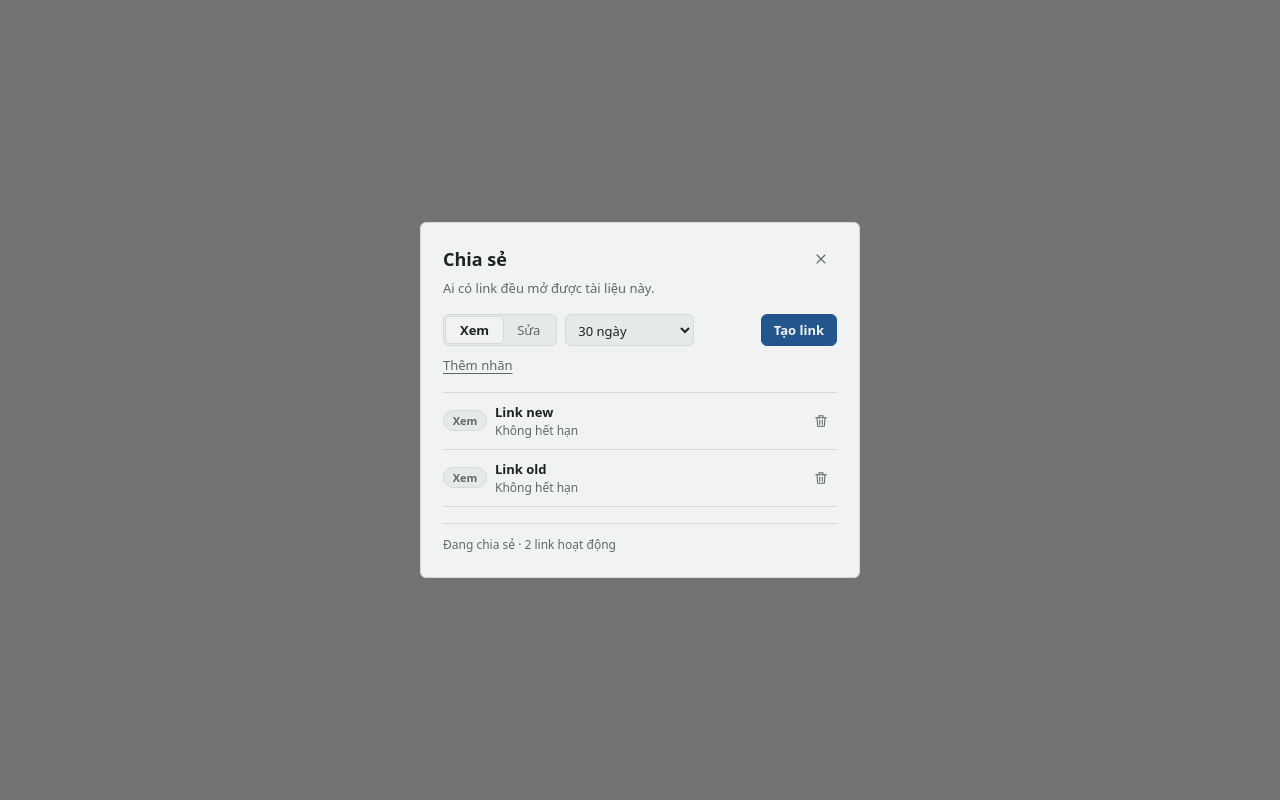
Test: ShareModal › 9i.1 redesigned list › newest first; label input hidden until Thêm nhãn
The width and height of the screenshot is (1280, 800).
expect the field labelled "Nhãn (tuỳ chọn)" is not shown: met
Click the button "Thêm nhãn" at (478, 365), box [443,352,512,378]
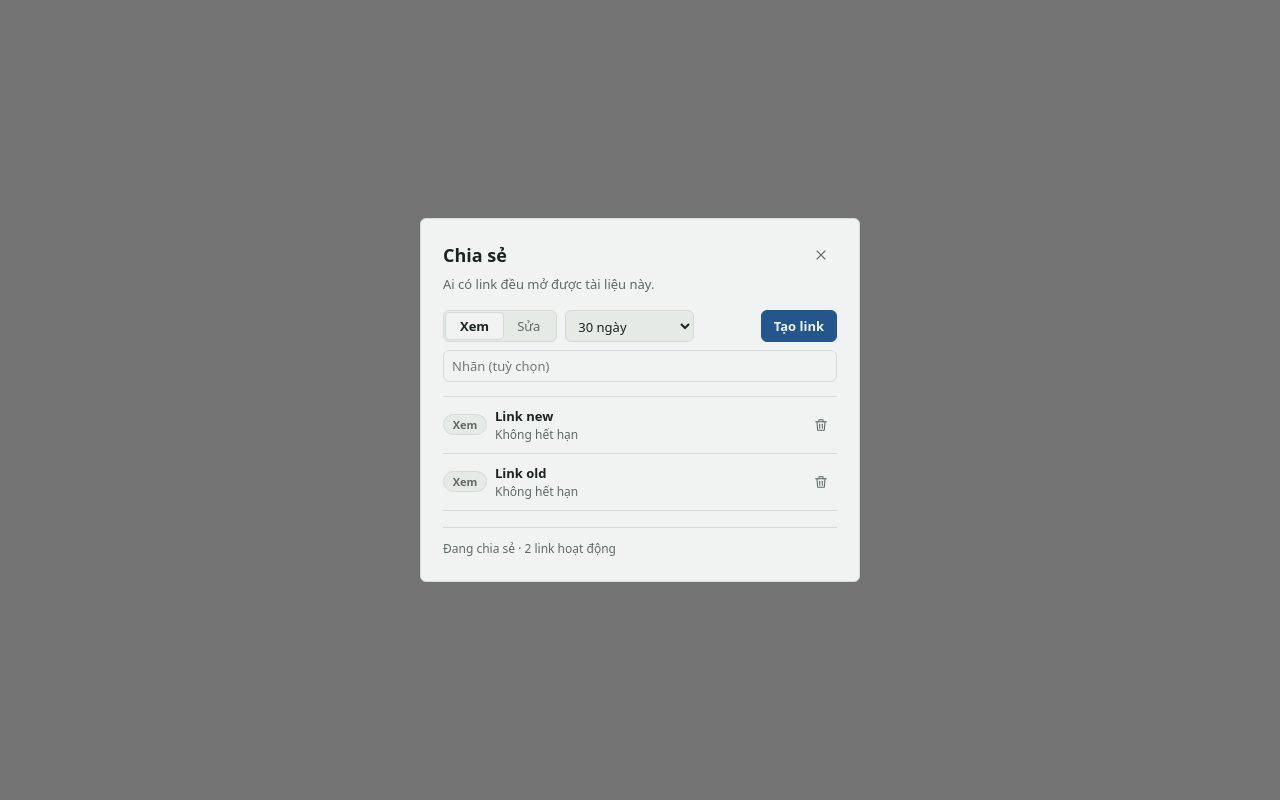
expect the field labelled "Nhãn (tuỳ chọn)" is shown: met, box [443,350,837,382]
